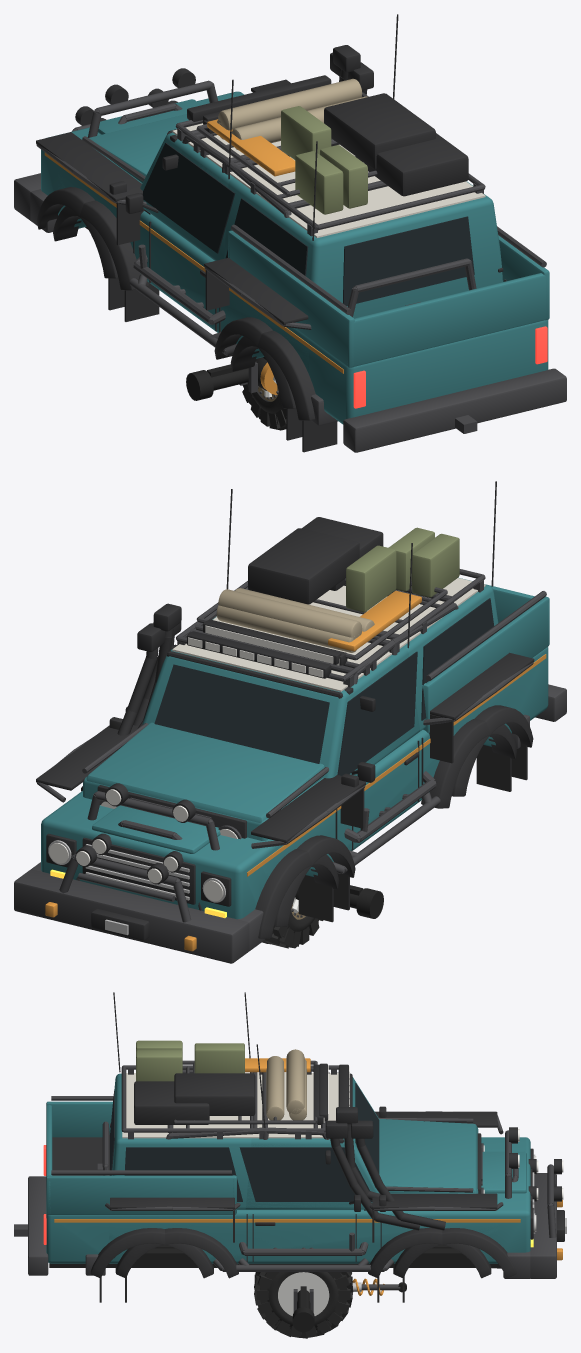
The model's file is Fleet.fbx.
3 renders of one model, top to bottom at view 1: azimuth 30°, elevation 25°; view 2: azimuth 150°, elevation 25°; view 3: azimuth 270°, elevation 25°, orthographic. The views are drawn at different scales.
Parts seen in each view (by area): view 1: Body_Packhorse, Body_Ridgeback, Body_Crawler, RoofRack_Crawler, RoofRack_Ridgeback, Axle_Housing, BullBar_Crawler, RoofRack_Packhorse, Wheel_Bead, Snorkel_Crawler; view 2: Body_Packhorse, Body_Crawler, Body_Ridgeback, RoofRack_Crawler, RoofRack_Ridgeback, RoofRack_Packhorse, BullBar_Packhorse, BullBar_Crawler, Snorkel_Packhorse, Snorkel_Crawler, Wheel_Bead, Axle_Housing (+1 smaller); view 3: Body_Packhorse, Body_Ridgeback, Body_Crawler, RoofRack_Ridgeback, RoofRack_Crawler, Wheel_Dune, Wheel_Bead, Snorkel_Packhorse, Snorkel_Ridgeback, RoofRack_Packhorse, Snorkel_Crawler, Axle_Housing (+2 smaller).
Boxes of the visible parts, <box> form: Body_Packhorse: <box>14,79,566,452</box>; Body_Ridgeback: <box>30,137,502,440</box>; Body_Crawler: <box>36,14,506,329</box>; RoofRack_Crawler: <box>196,78,435,196</box>; RoofRack_Ridgeback: <box>192,96,485,236</box>; Axle_Housing: <box>186,357,277,400</box>; BullBar_Crawler: <box>87,68,217,137</box>; RoofRack_Packhorse: <box>175,75,333,174</box>; Wheel_Bead: <box>242,385,286,430</box>; Snorkel_Crawler: <box>333,45,360,81</box>; Body_Packhorse: <box>14,543,566,963</box>; Body_Crawler: <box>36,489,534,848</box>; Body_Ridgeback: <box>31,481,529,951</box>; RoofRack_Crawler: <box>196,528,447,660</box>; RoofRack_Ridgeback: <box>194,517,485,675</box>; RoofRack_Packhorse: <box>176,605,399,687</box>; BullBar_Packhorse: <box>59,845,191,922</box>; BullBar_Crawler: <box>87,783,219,850</box>; Snorkel_Packhorse: <box>81,623,164,791</box>; Snorkel_Crawler: <box>137,603,181,728</box>; Wheel_Bead: <box>262,904,323,948</box>; Axle_Housing: <box>295,885,383,918</box>; Body_Packhorse: <box>14,992,566,1302</box>; Body_Ridgeback: <box>85,992,530,1302</box>; Body_Crawler: <box>102,1044,518,1255</box>; RoofRack_Ridgeback: <box>121,1040,324,1139</box>; RoofRack_Crawler: <box>173,1043,317,1124</box>; Wheel_Dune: <box>267,1272,348,1334</box>; Wheel_Bead: <box>254,1272,353,1338</box>; Snorkel_Packhorse: <box>351,1120,445,1230</box>; Snorkel_Ridgeback: <box>325,1120,420,1230</box>; RoofRack_Packhorse: <box>253,1059,349,1139</box>; Snorkel_Crawler: <box>336,1107,380,1200</box>; Axle_Housing: <box>292,1286,314,1332</box>.
Size of the model in its own units: 2.28 by 3.49 by 5.48.
